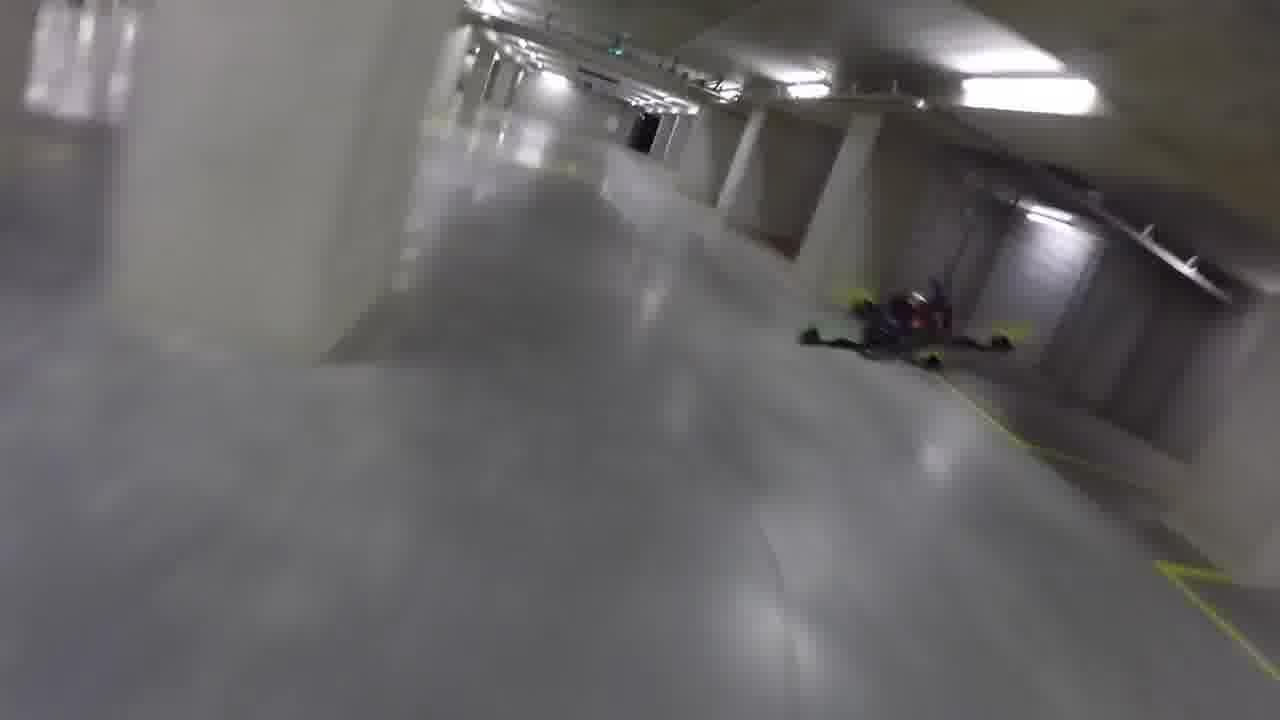drone: (782, 255, 1037, 390)
